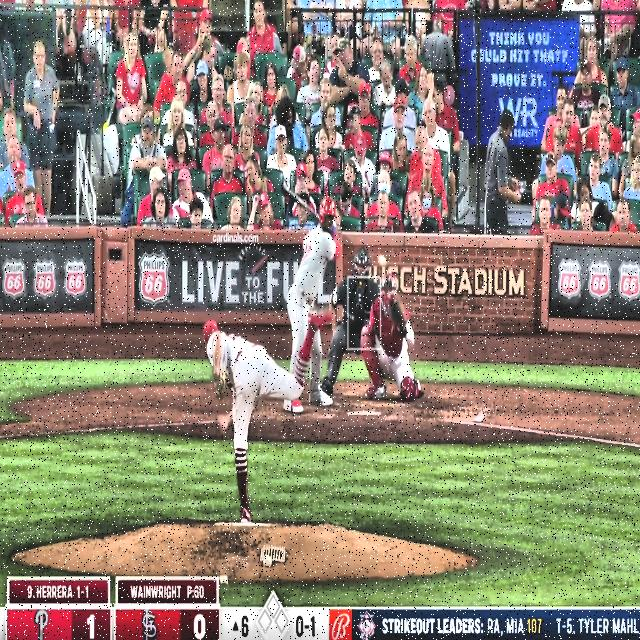baseball: (377, 253, 387, 268)
